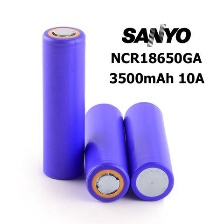battery: (38, 22, 86, 182), (120, 101, 175, 202), (84, 97, 131, 206)
